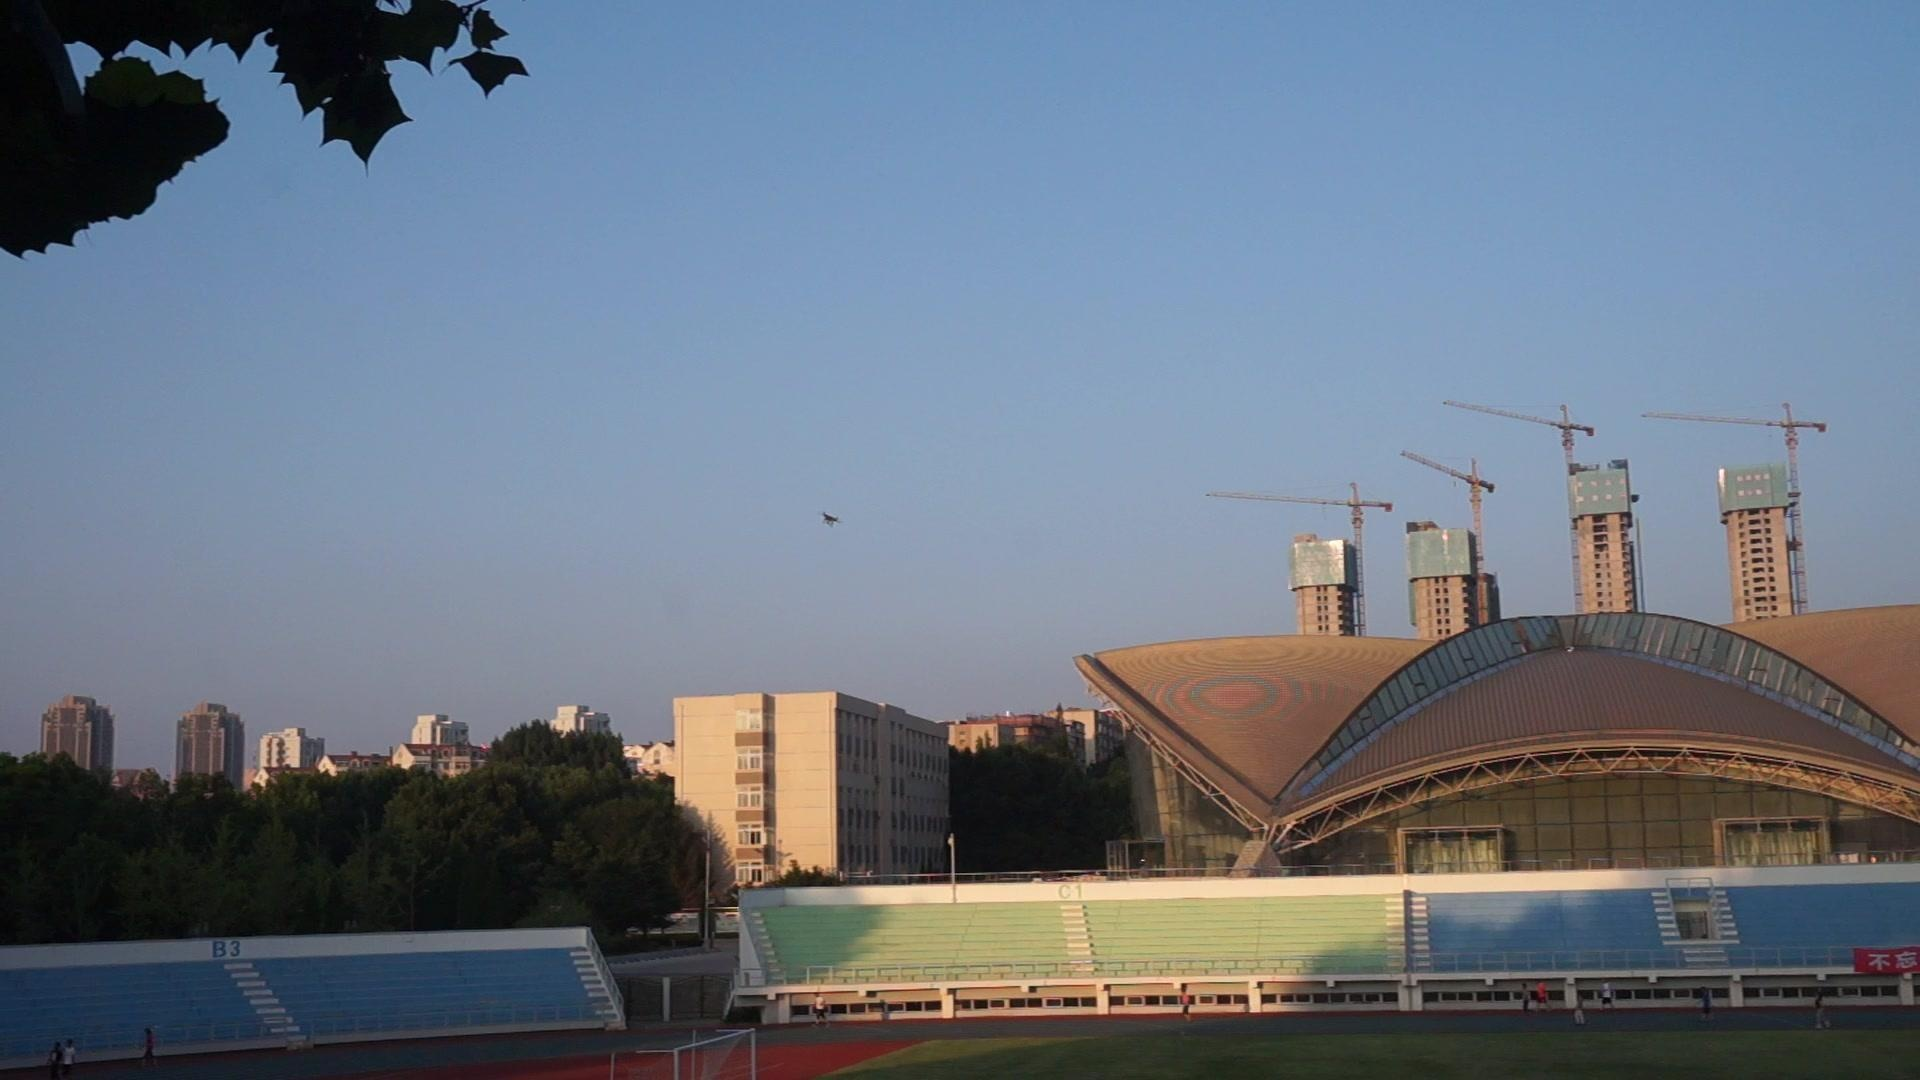UAV: (818, 512, 844, 527)
